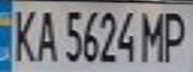2: (96, 7, 121, 63)
4: (115, 7, 142, 63)
5: (60, 6, 84, 63)
6: (78, 7, 100, 63)
A: (30, 6, 60, 63)
K: (6, 4, 39, 63)
M: (136, 8, 172, 63)
P: (157, 8, 193, 62)
